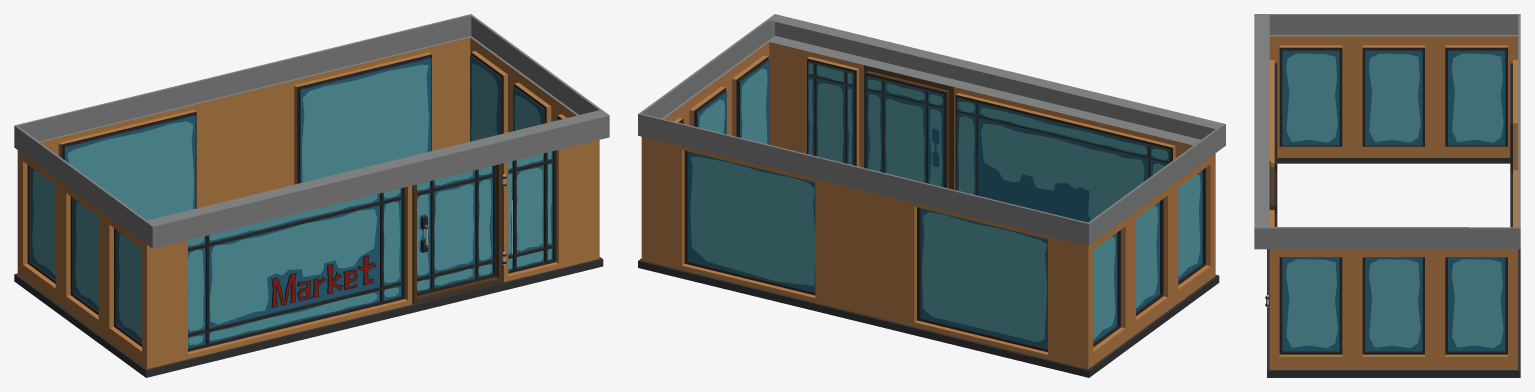
File: Building_D_01_02.FBX
The picture shows the model from 3 angles, left to right: view 1: azimuth 30°, elevation 25°; view 2: azimuth 150°, elevation 25°; view 3: azimuth 270°, elevation 25°; orthographic projection. The views are drawn at different scales.
Parts seen in each view (by area): view 1: Building_D_01_02; view 2: Building_D_01_02; view 3: Building_D_01_02.
Boxes of the visible parts, <box> form: Building_D_01_02: <box>14,14,609,377</box>; Building_D_01_02: <box>638,14,1225,377</box>; Building_D_01_02: <box>1254,14,1520,377</box>.
Bounding box in the file's own units: 10 × 3.26 × 5.25.
